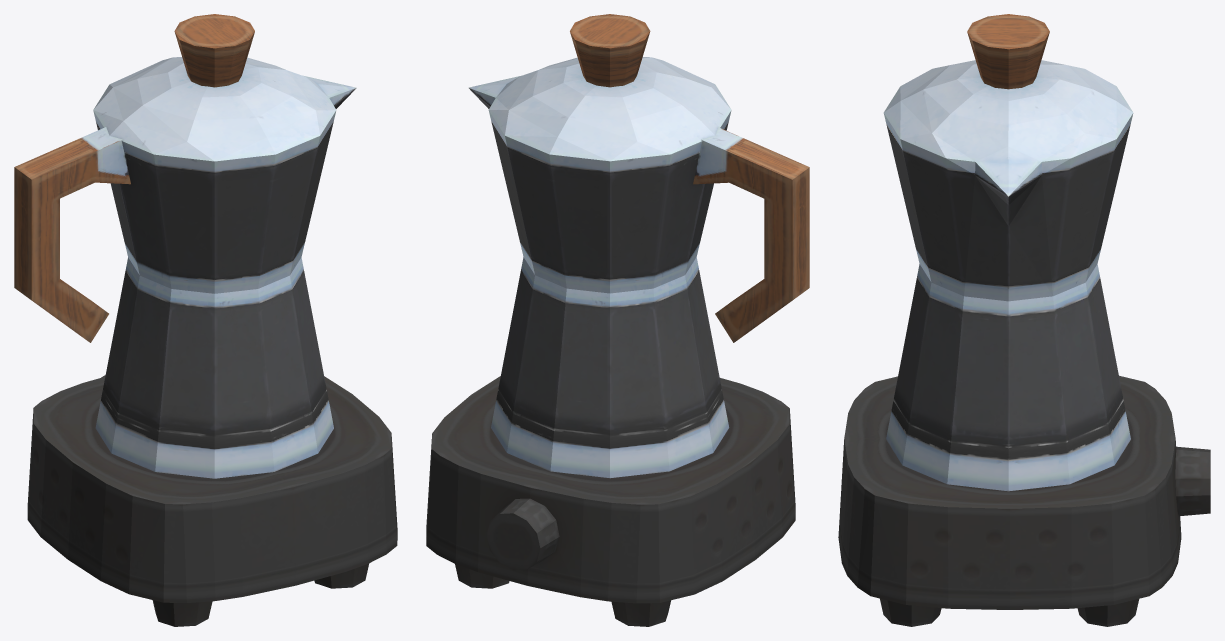
File: P_Kettle_004_S1_M01.obj
3 renders of one model, left to right at view 1: azimuth 30°, elevation 25°; view 2: azimuth 150°, elevation 25°; view 3: azimuth 270°, elevation 25°, orthographic. The views are drawn at different scales.
Bounding box in the file's own units: 0.4372 × 0.6624 × 0.41.
Materials: 1 (1 with a texture image).
